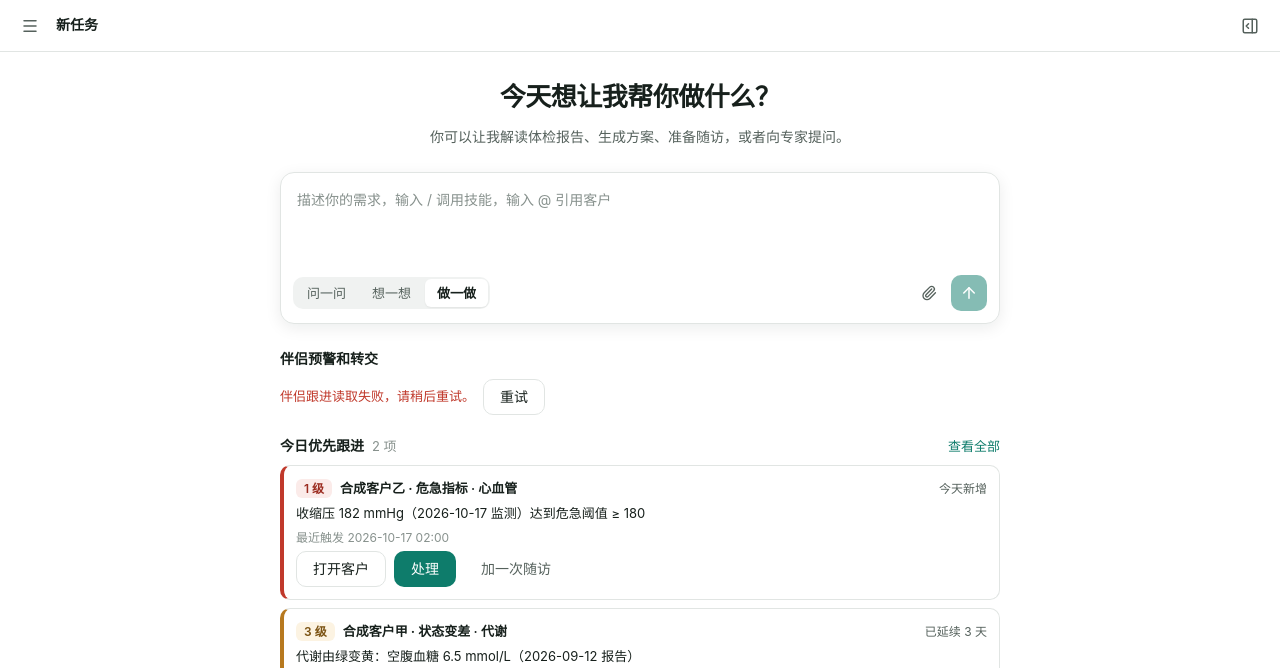
Test: 手机宽度 › 点客户：关闭抽屉，底部面板打开孪生，单列布局（data-layout="narrow"）
Click the button named "打开菜单" at (30, 26), box [12,8,48,44]
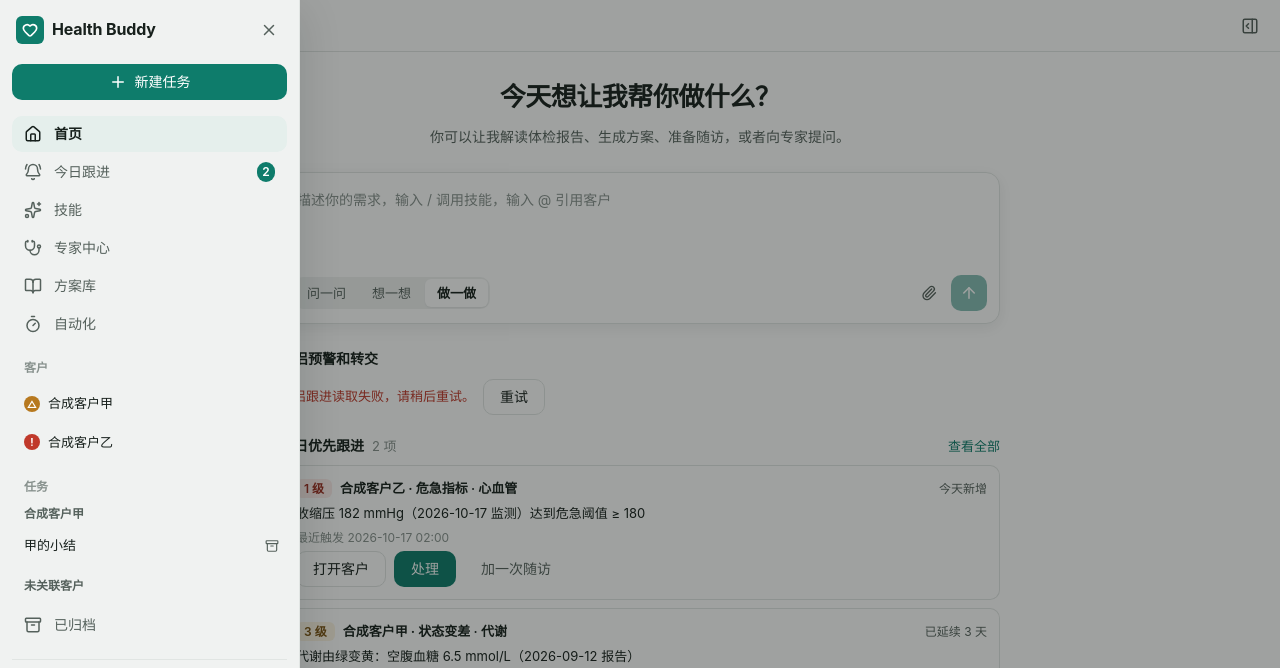
Click the button "! 合成客户乙" at (68, 442), box [12,424,125,461]
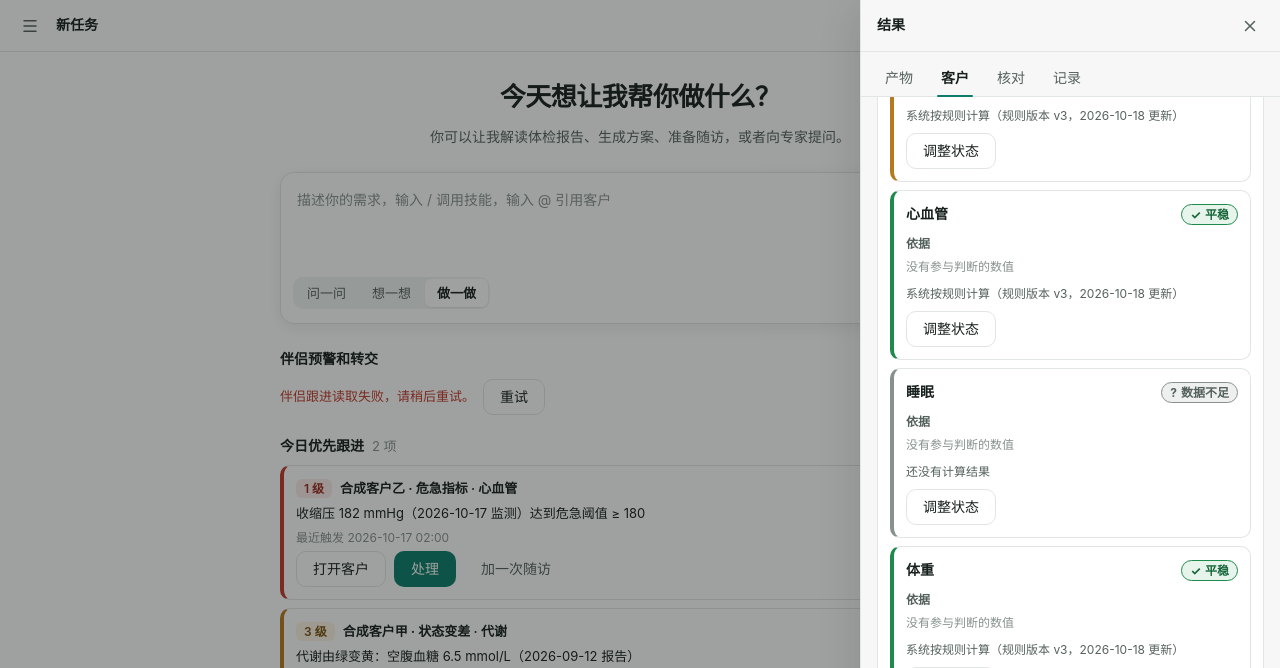
Now the text "Health Buddy" is gone
